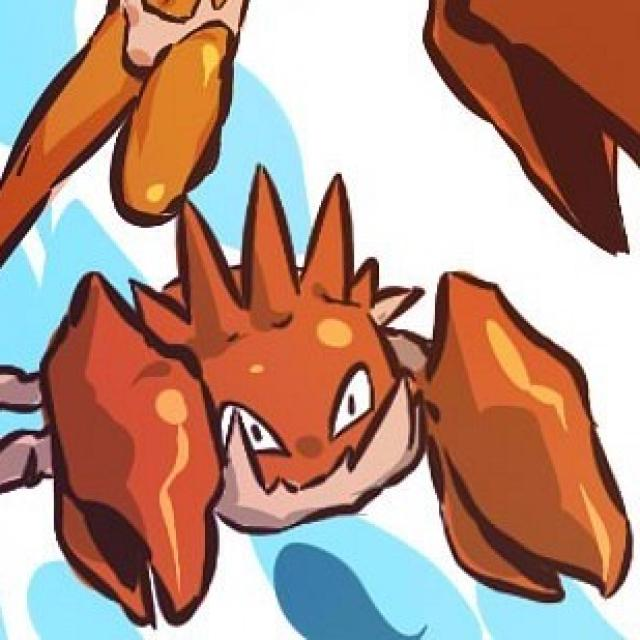Kingler: (41, 169, 601, 640)
